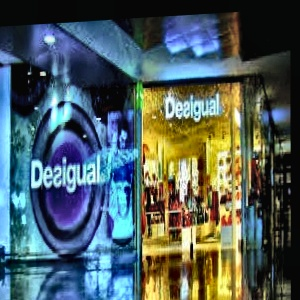desigual: (120, 48, 290, 138), (85, 85, 123, 218)
